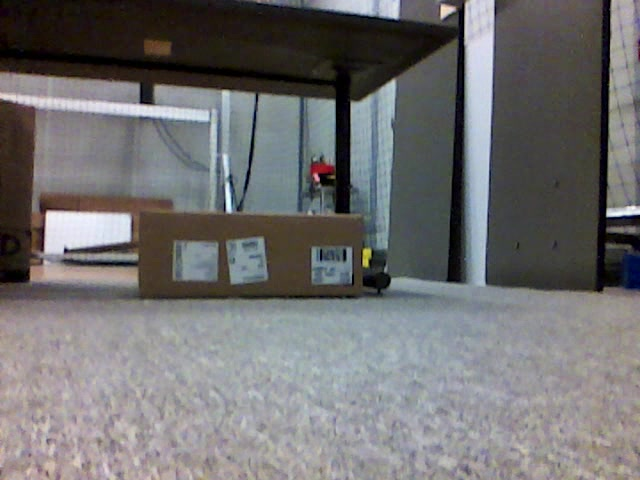box: (140, 209, 363, 296), (1, 102, 36, 281)
